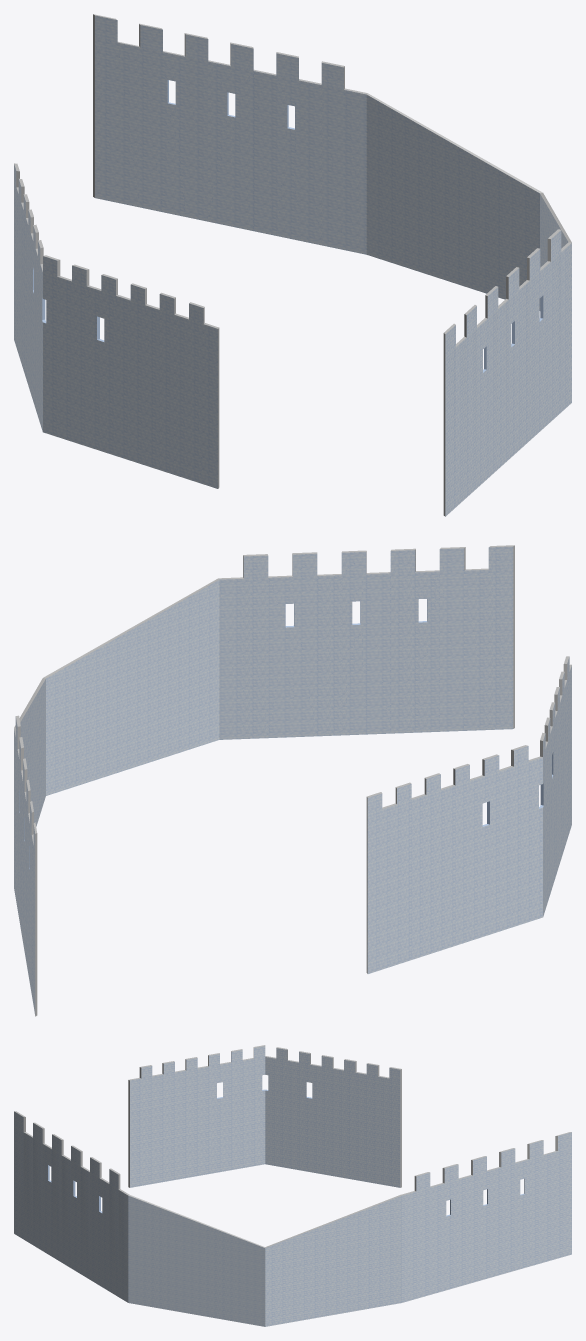
The model's file is RoundHouse.fbx.
The picture shows the model from 3 angles, top to bottom: view 1: azimuth 30°, elevation 25°; view 2: azimuth 150°, elevation 25°; view 3: azimuth 270°, elevation 25°; orthographic projection. The views are drawn at different scales.
Visible parts, largest first — view 1: Pipe.015; view 2: Pipe.015; view 3: Pipe.015.
Boxes of the visible parts, bbox=[...] form: Pipe.015: bbox=[14, 14, 571, 516]; Pipe.015: bbox=[14, 545, 571, 1016]; Pipe.015: bbox=[14, 1045, 571, 1326].
Size of the model in its own units: 4000 by 1395 by 5762.
